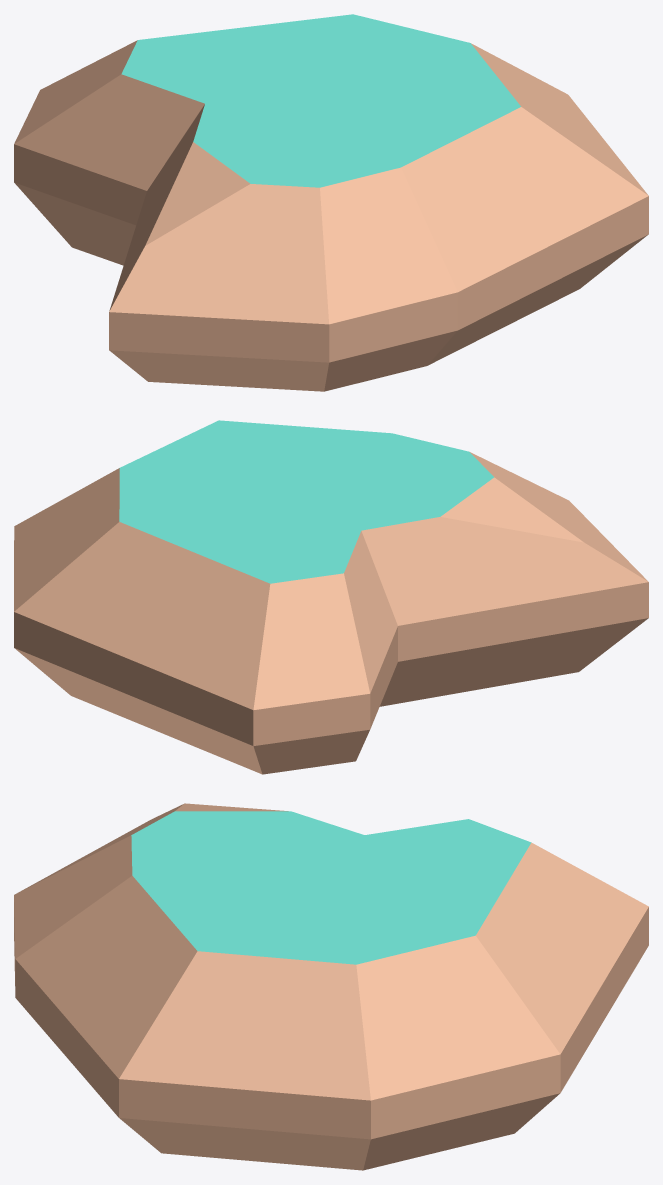
File: rock_largeC.glb
3 renders of one model, top to bottom at view 1: azimuth 30°, elevation 25°; view 2: azimuth 150°, elevation 25°; view 3: azimuth 270°, elevation 25°, orthographic. The views are drawn at different scales.
Visible parts, largest first — view 1: rock_largeC; view 2: rock_largeC; view 3: rock_largeC.
Part boxes in pixels (box(x1,y1,x2,y2)): rock_largeC: box(14, 14, 648, 391); rock_largeC: box(14, 420, 648, 774); rock_largeC: box(14, 803, 648, 1170).
Size of the model in its own units: 1.06 by 0.3211 by 1.02.
